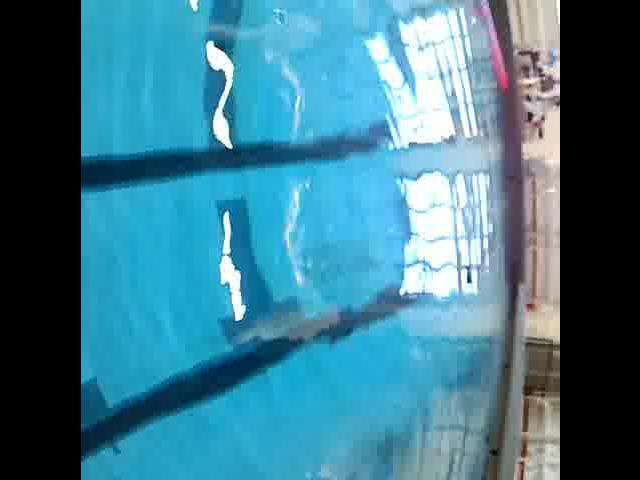CamMount: (460, 260, 476, 286)
